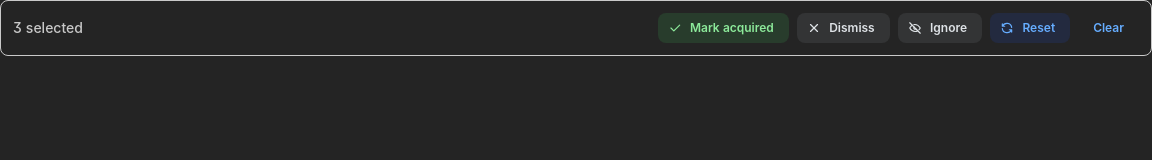
Scenario: ReleasesBulkActionBar › explains Reset on hover
Hover over the button "Reset" at [1030, 28], box [990,13,1070,43]
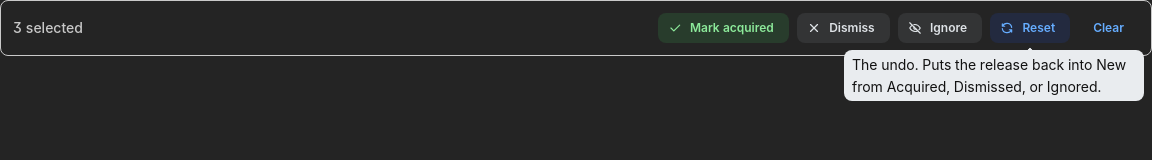
Expected: the tooltip "The undo. Puts the release back into New from Acquired, Dismissed, or Ignored." is shown, [844,50,1144,101]
